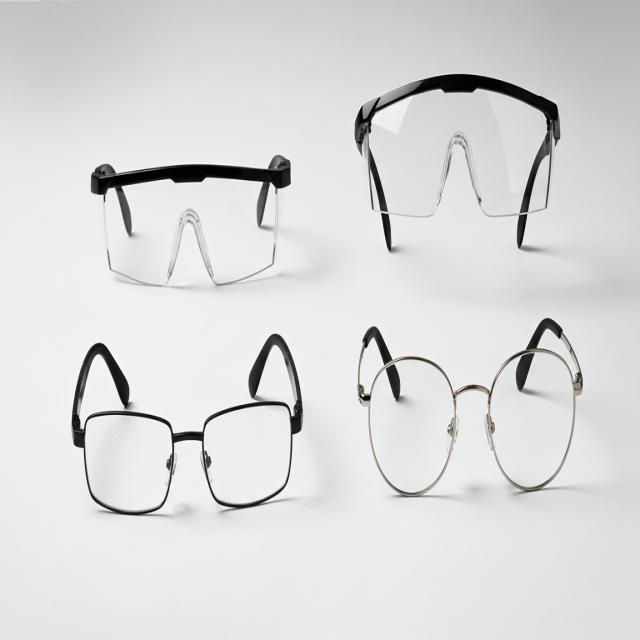oculos-epi: (355, 74, 560, 249), (91, 155, 290, 285)
sem_oculos: (72, 335, 303, 514), (376, 346, 565, 496)
